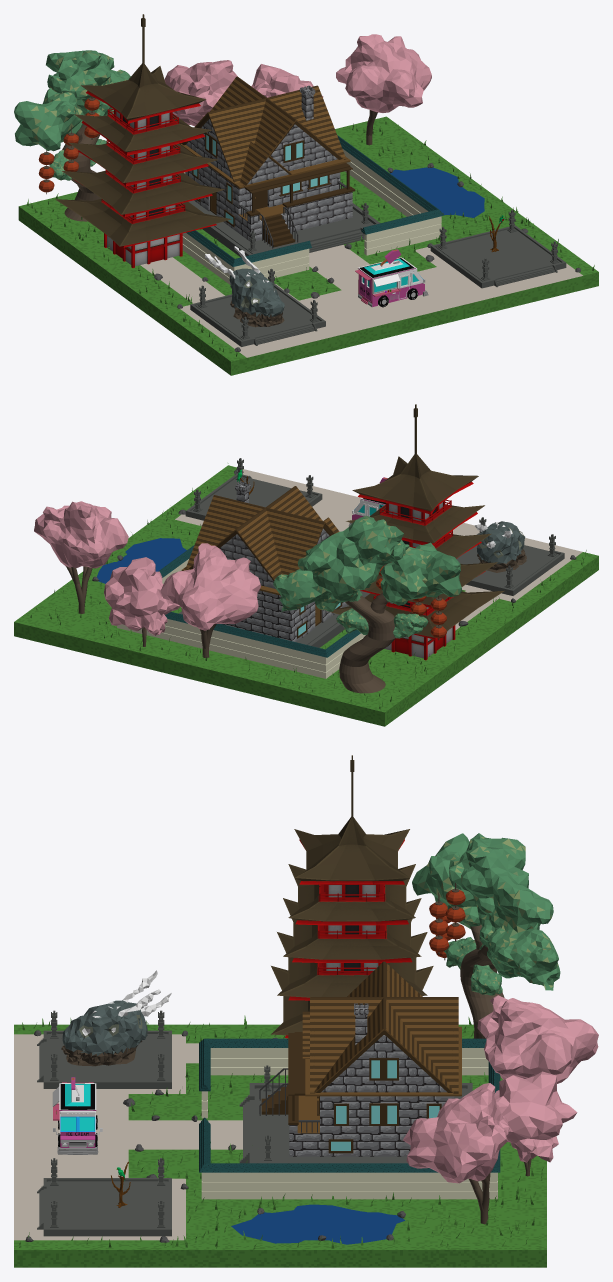
The picture shows the model from 3 angles, top to bottom: view 1: azimuth 30°, elevation 25°; view 2: azimuth 150°, elevation 25°; view 3: azimuth 270°, elevation 25°; orthographic projection. The views are drawn at different scales.
Parts seen in each view (by area): view 1: Cube.005, Cube.586, OBJRANDOM_METEORITE, VEHICLES_ICE_CREAM_TRUCK; view 2: Cube.005, Cube.586, OBJRANDOM_METEORITE, VEHICLES_ICE_CREAM_TRUCK; view 3: Cube.005, Cube.586, OBJRANDOM_METEORITE, VEHICLES_ICE_CREAM_TRUCK.
Boxes of the visible parts, x1=… form: Cube.005: x1=14, y1=14, x2=598, y2=375; Cube.586: x1=179, y1=76, x2=355, y2=248; OBJRANDOM_METEORITE: x1=205, y1=246, x2=284, y2=327; VEHICLES_ICE_CREAM_TRUCK: x1=355, y1=249, x2=428, y2=307; Cube.005: x1=14, y1=404, x2=598, y2=726; Cube.586: x1=181, y1=481, x2=347, y2=641; OBJRANDOM_METEORITE: x1=474, y1=521, x2=526, y2=572; VEHICLES_ICE_CREAM_TRUCK: x1=348, y1=477, x2=387, y2=526; Cube.005: x1=14, y1=755, x2=598, y2=1267; Cube.586: x1=259, y1=961, x2=461, y2=1156; OBJRANDOM_METEORITE: x1=61, y1=970, x2=171, y2=1066; VEHICLES_ICE_CREAM_TRUCK: x1=52, y1=1077, x2=102, y2=1154.
Bounding box in the file's own units: 4528 × 2693 × 4389.
46 materials, 6 textured.
